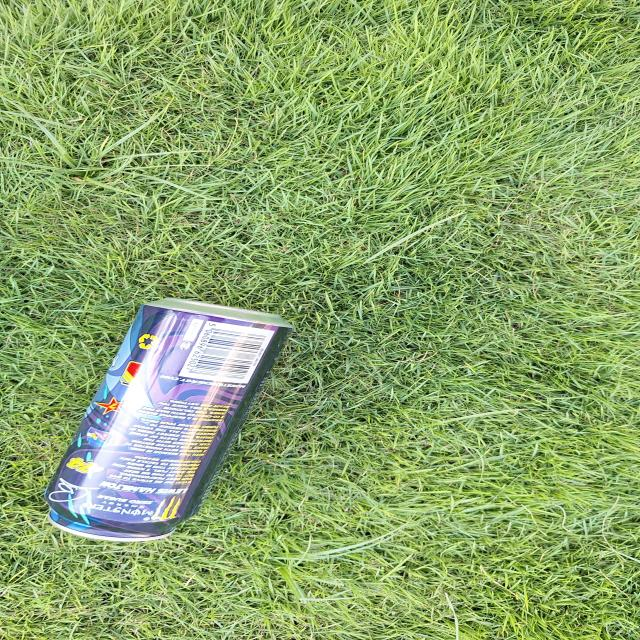Monster LH44: (34, 304, 301, 536)
